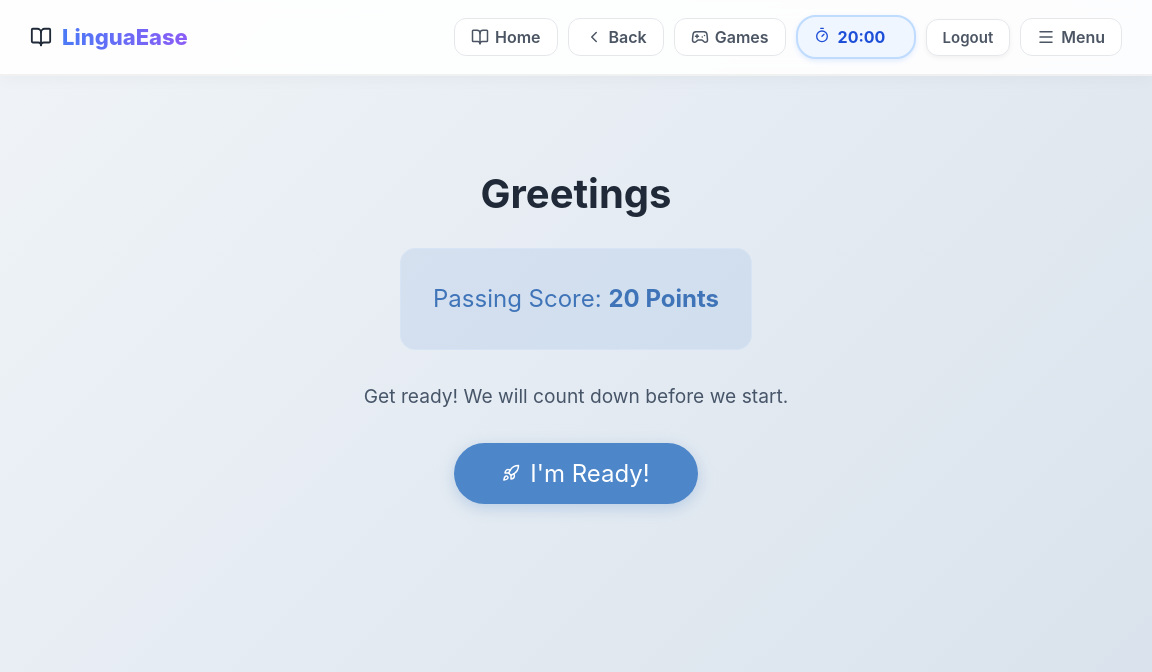
Test: ADHDView Component - ADHD Learning Features › 2. Lesson Selection & Navigation › should navigate between steps
Expected: the heading "Greetings" is shown, [480,169,672,218]
Click the button "I'm Ready!" at {"x": 576, "y": 474}, box [454,443,698,504]
Wait 5000 ms
(page scrolled)
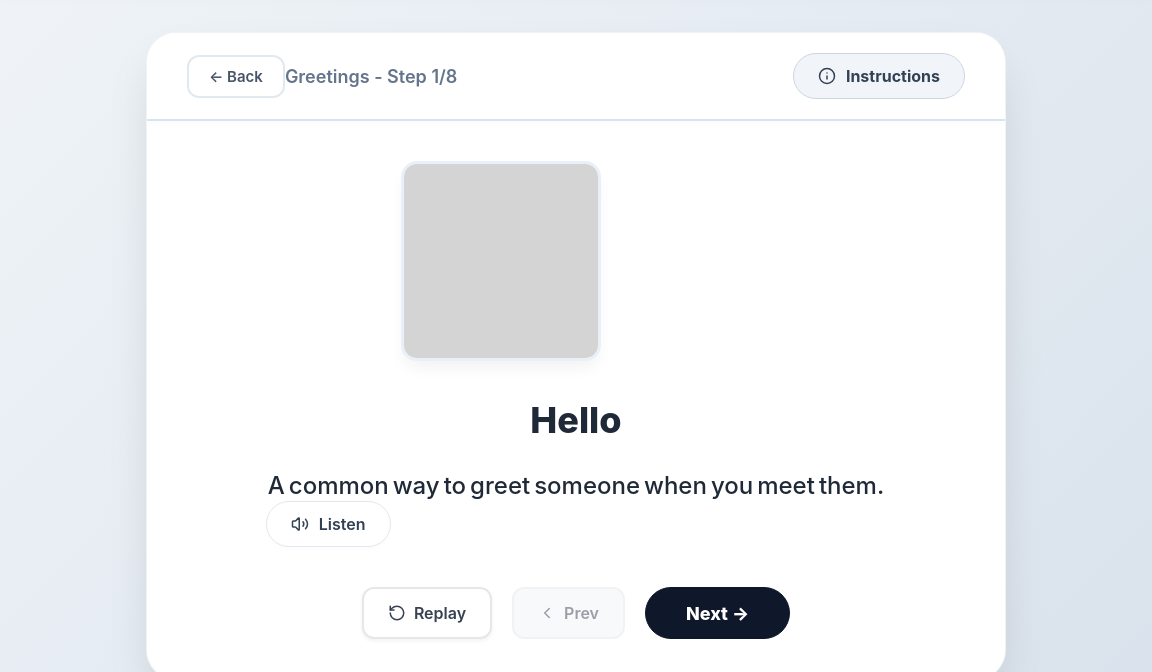
Result: the text "Hello" is shown at [528,398,624,443]
Click the button "Next →" at {"x": 718, "y": 613}, box [645,587,790,639]
(page scrolled)
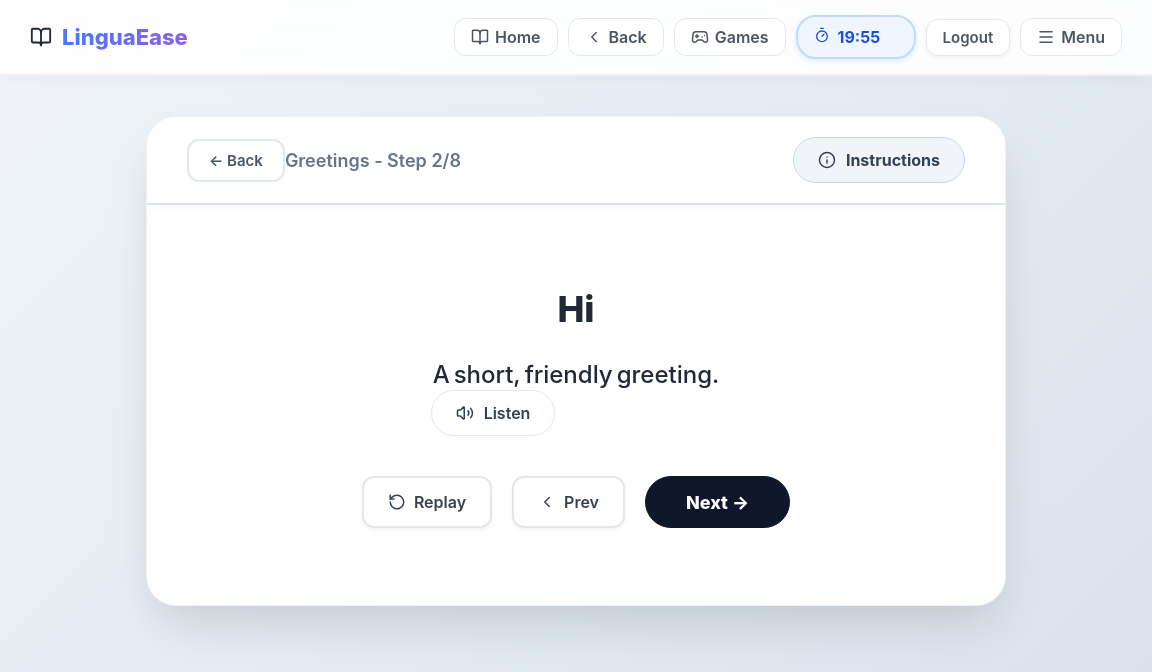
Result: the text "Hi" is shown at [555,287,597,332]
Click the button "Prev" at {"x": 569, "y": 502}, box [512,476,625,528]
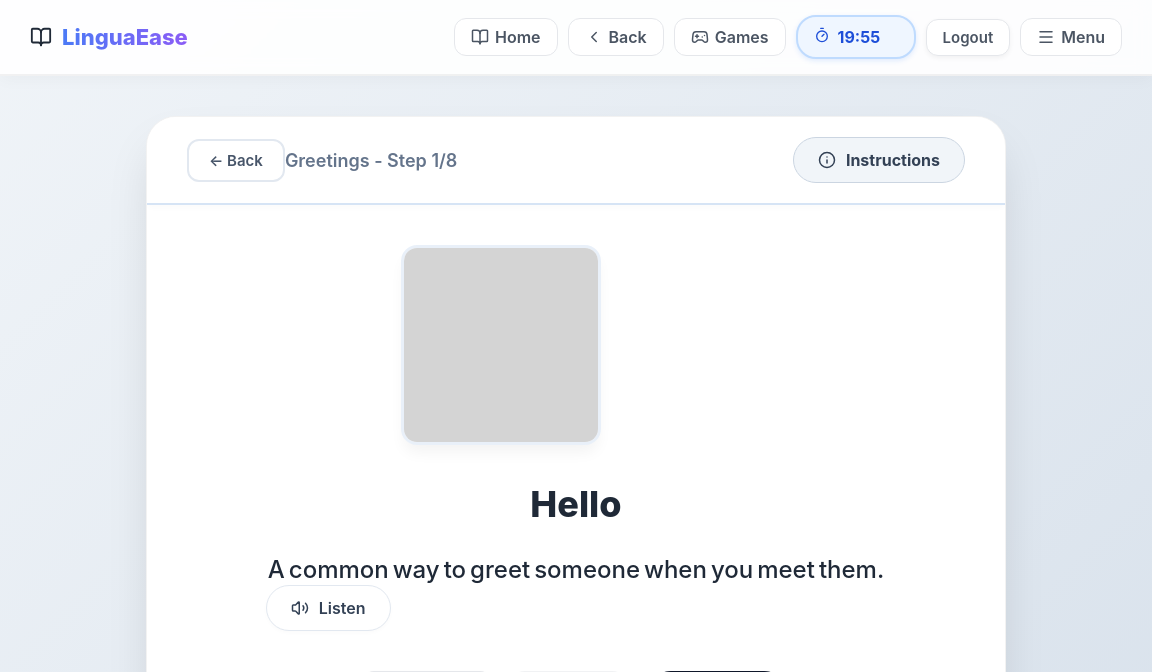
Result: the text "Hello" is shown at [528,482,624,527]
